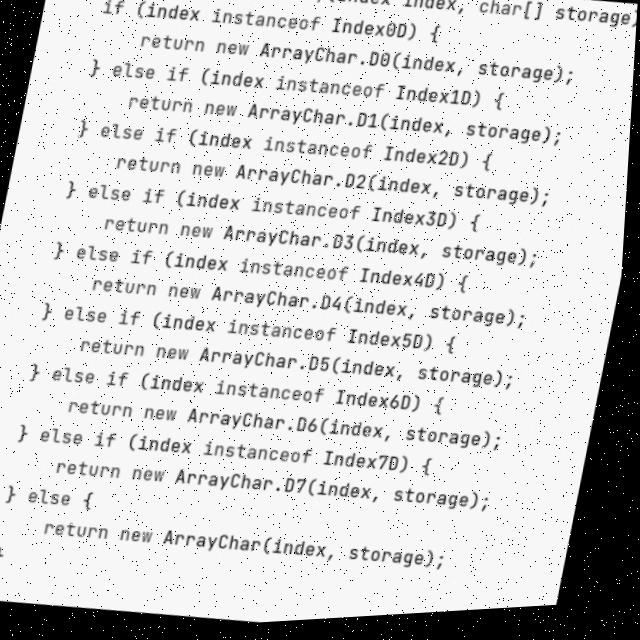code_screen: (0, 0, 637, 620)
